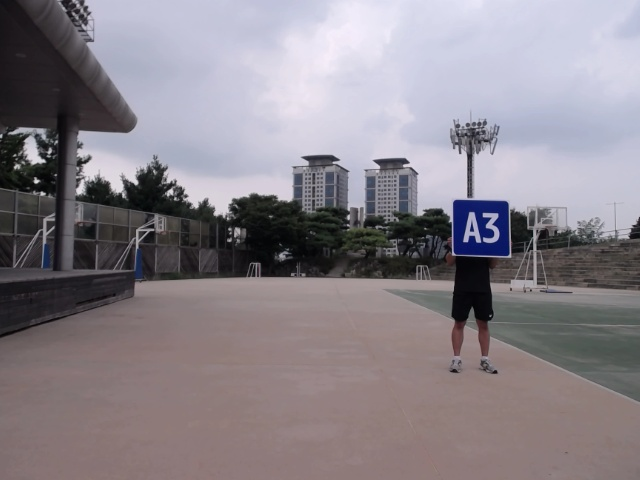delivery_a3: (451, 199, 511, 258)
